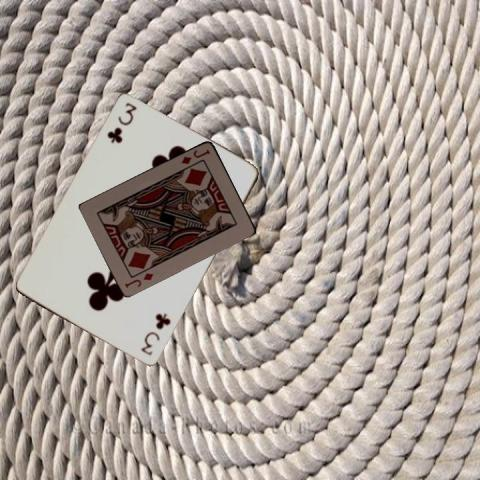3c: (138, 310, 173, 357), (104, 100, 138, 145)
Jd: (122, 270, 155, 290), (178, 146, 211, 165)
